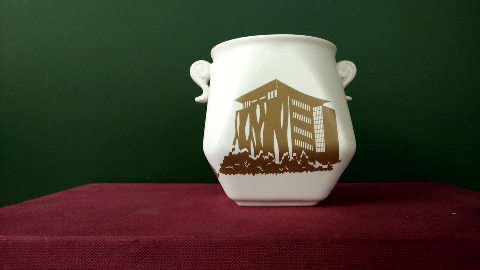library: (228, 87, 329, 170)
